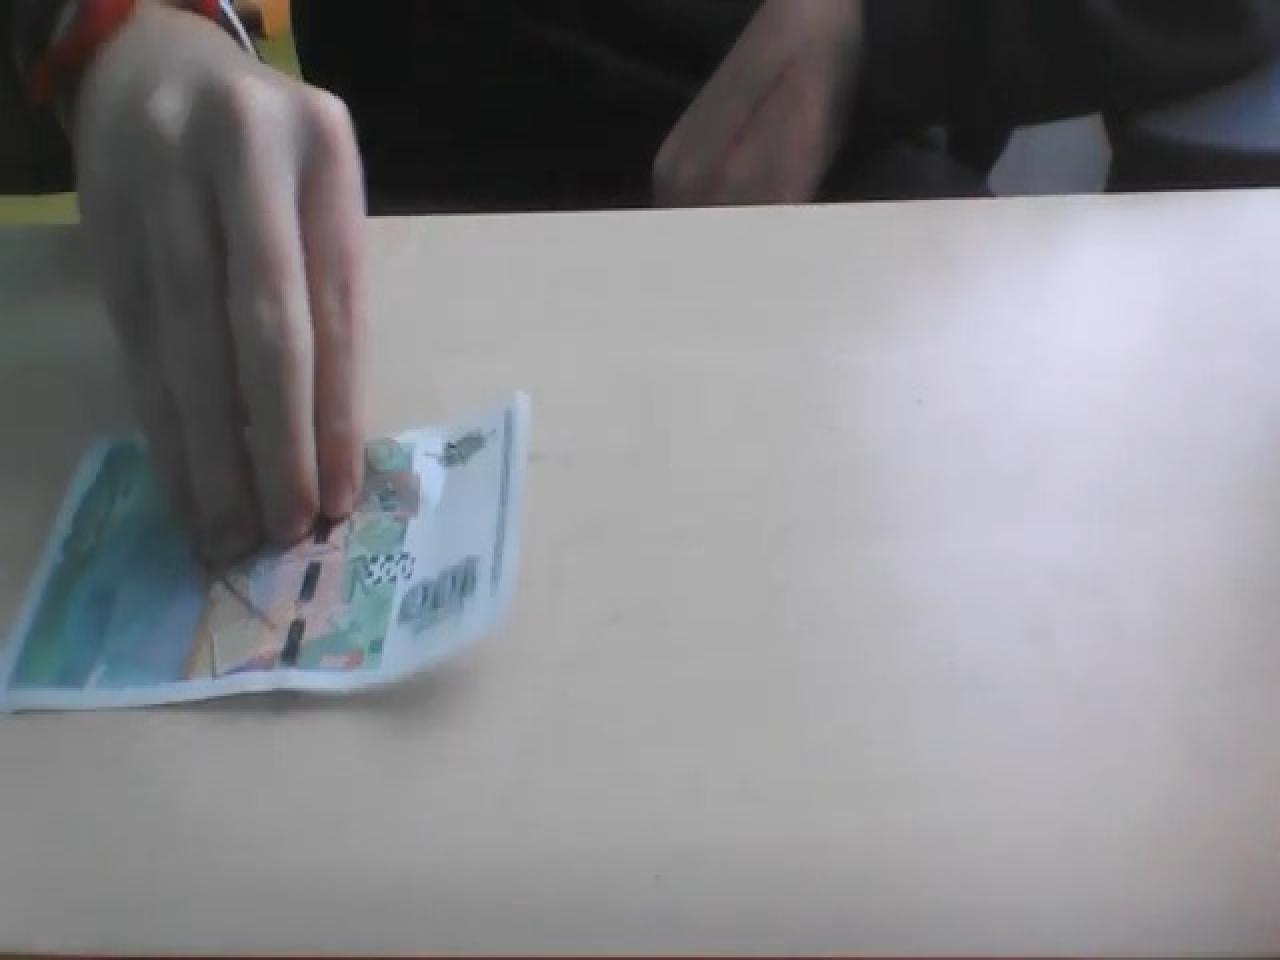100leva: (0, 392, 530, 720)
